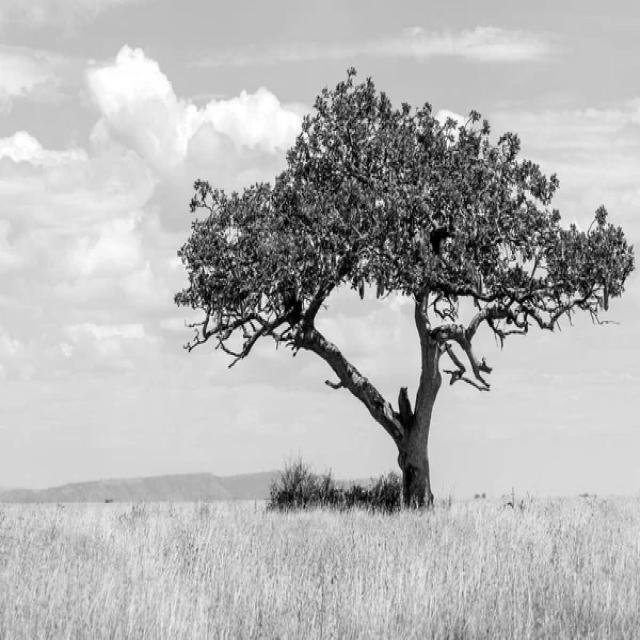Tree: (176, 69, 636, 508)
